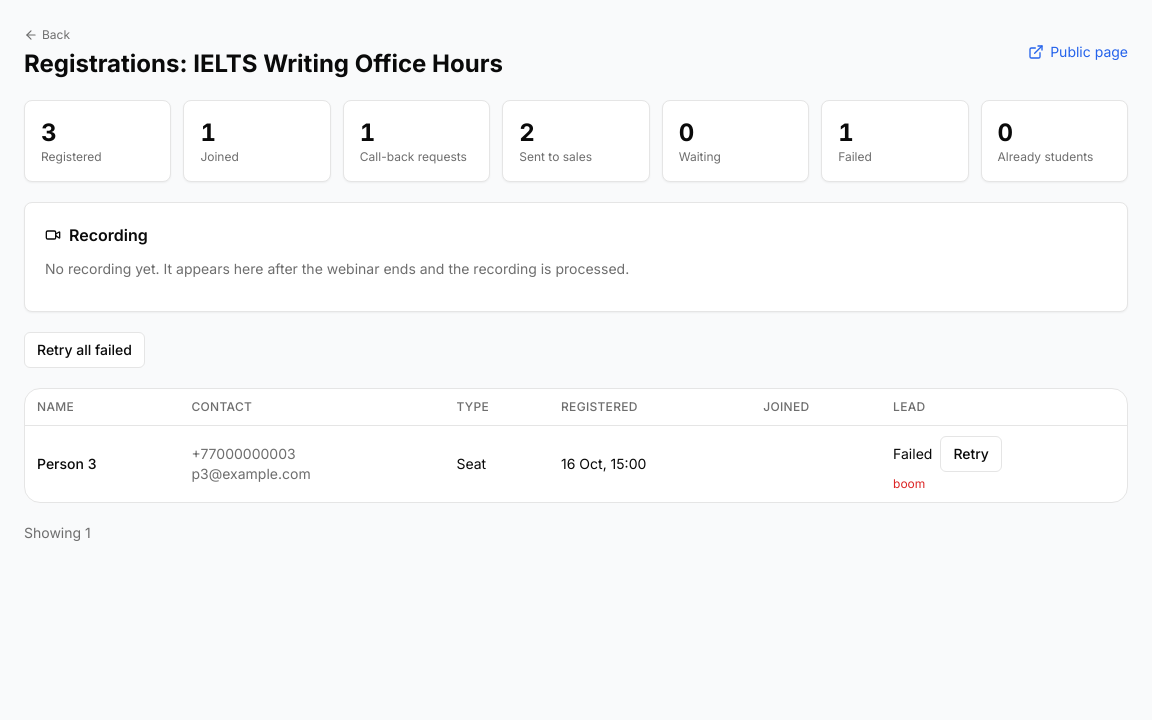
Test case: a webinar’s registrations › retries a failed lead from the row and reloads
Click the button "Retry". click: (971, 454)
box: [940, 436, 1002, 472]
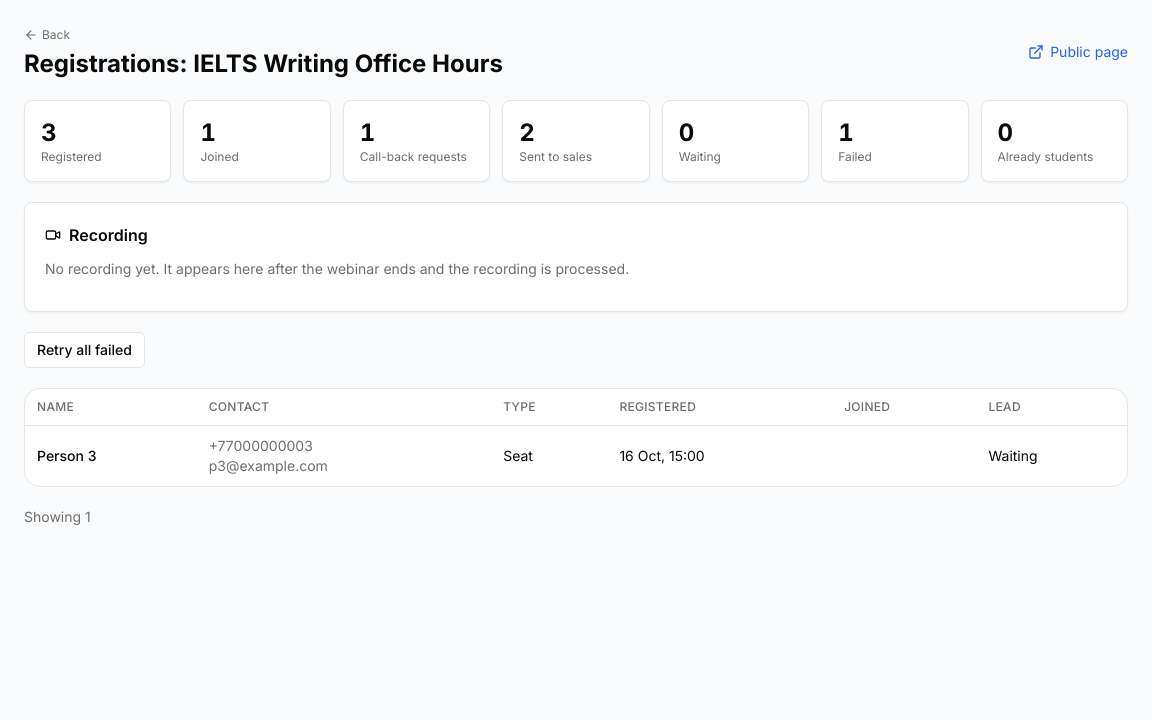
Result: the cell "Waiting" is shown at [976, 426, 1127, 486]
